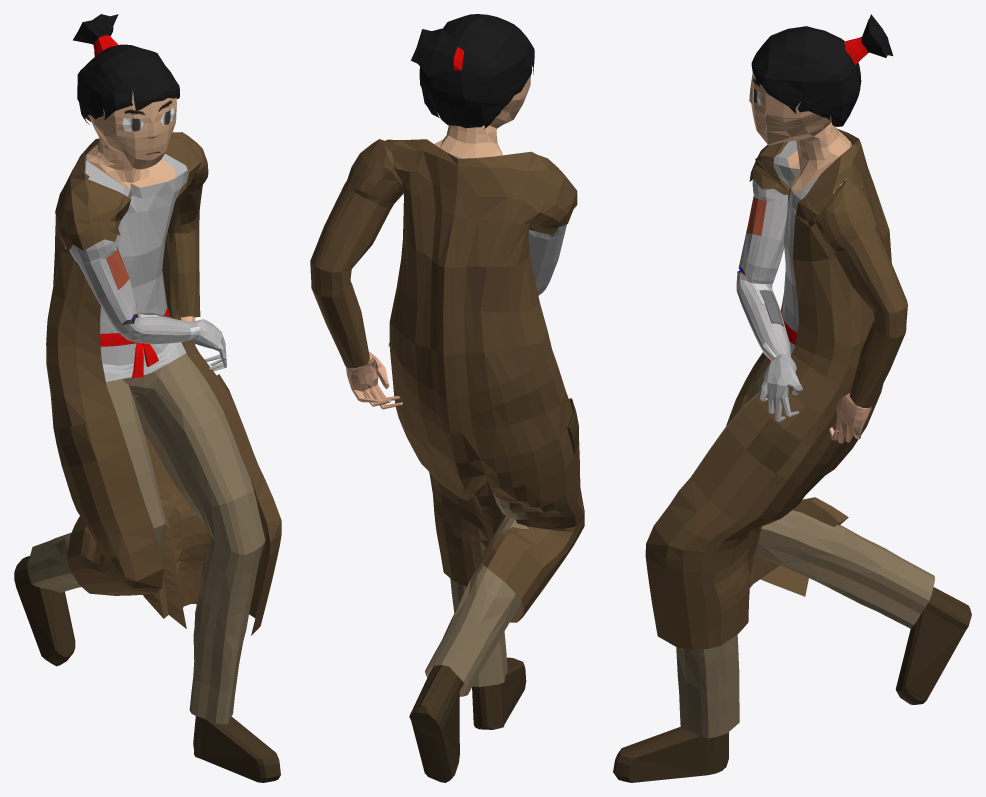
The model's file is One_RB_000007.obj.
3 renders of one model, left to right at view 1: azimuth 30°, elevation 25°; view 2: azimuth 150°, elevation 25°; view 3: azimuth 270°, elevation 25°, orthographic. The views are drawn at different scales.
Parts seen in each view (by area): view 1: Hair_Cube.004; view 2: Hair_Cube.004; view 3: Hair_Cube.004.
Boxes of the visible parts, bbox=[...] form: Hair_Cube.004: bbox=[14, 14, 281, 782]; Hair_Cube.004: bbox=[310, 14, 584, 782]; Hair_Cube.004: bbox=[613, 14, 971, 782].
Size of the model in its own units: 1.06 by 3.74 by 1.66.
